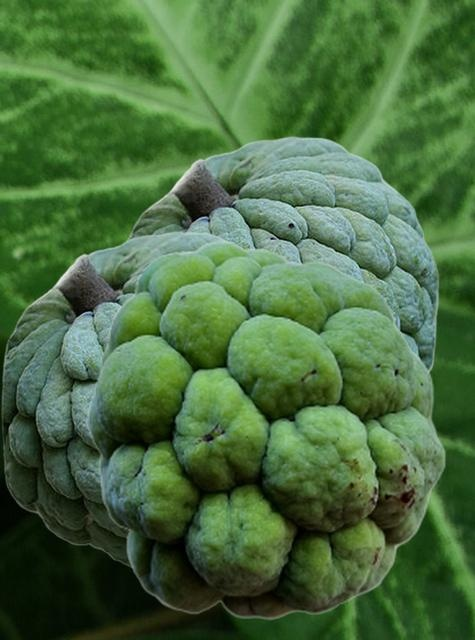atis: (86, 239, 445, 620), (1, 231, 225, 568), (123, 136, 438, 373)
